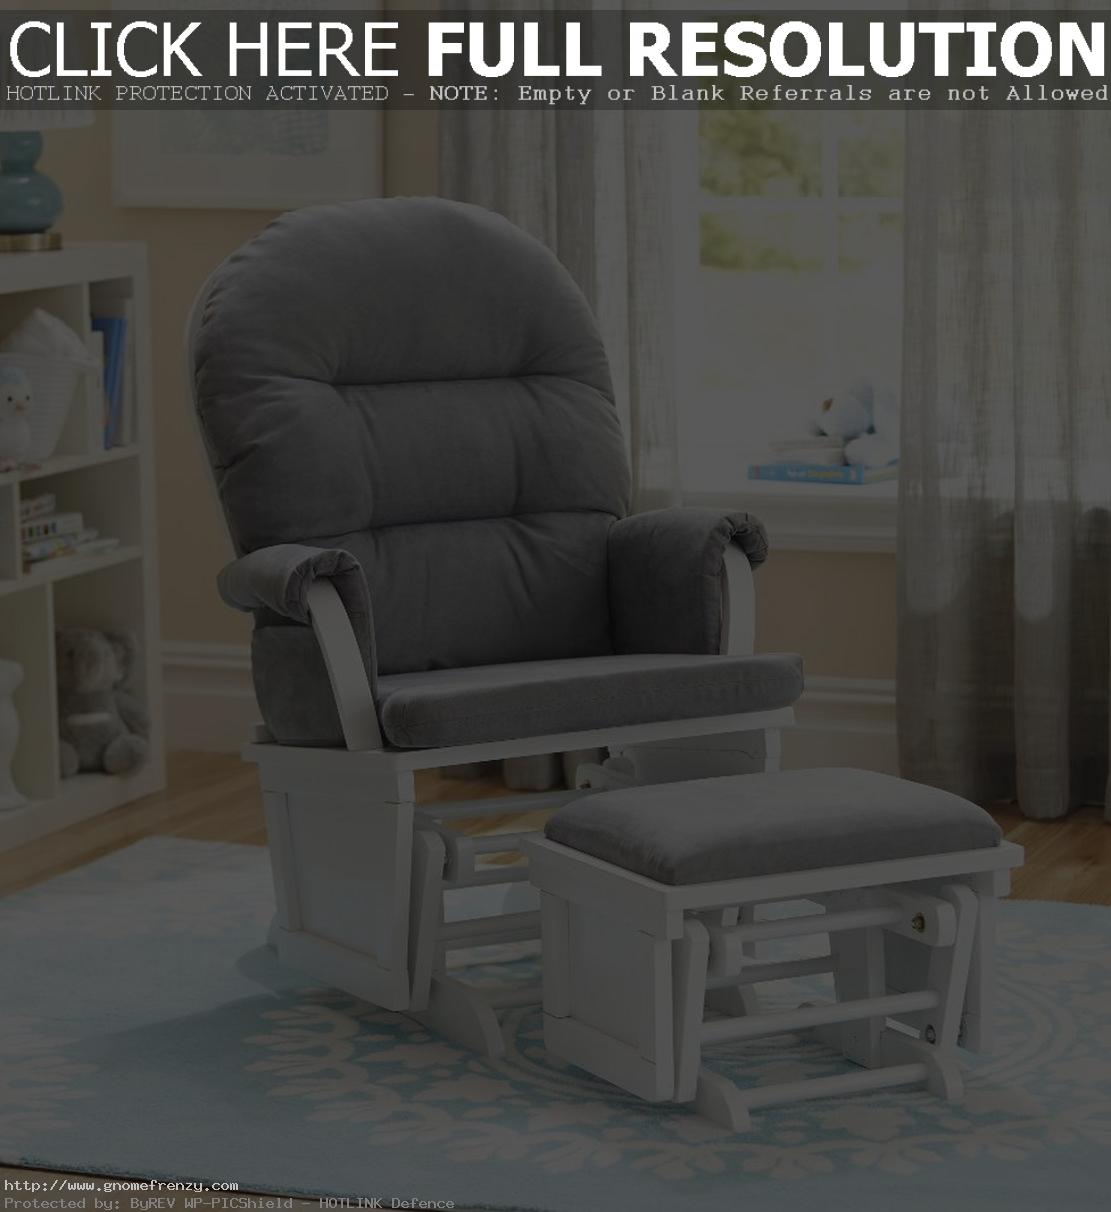chairs: (176, 207, 1029, 1107)
